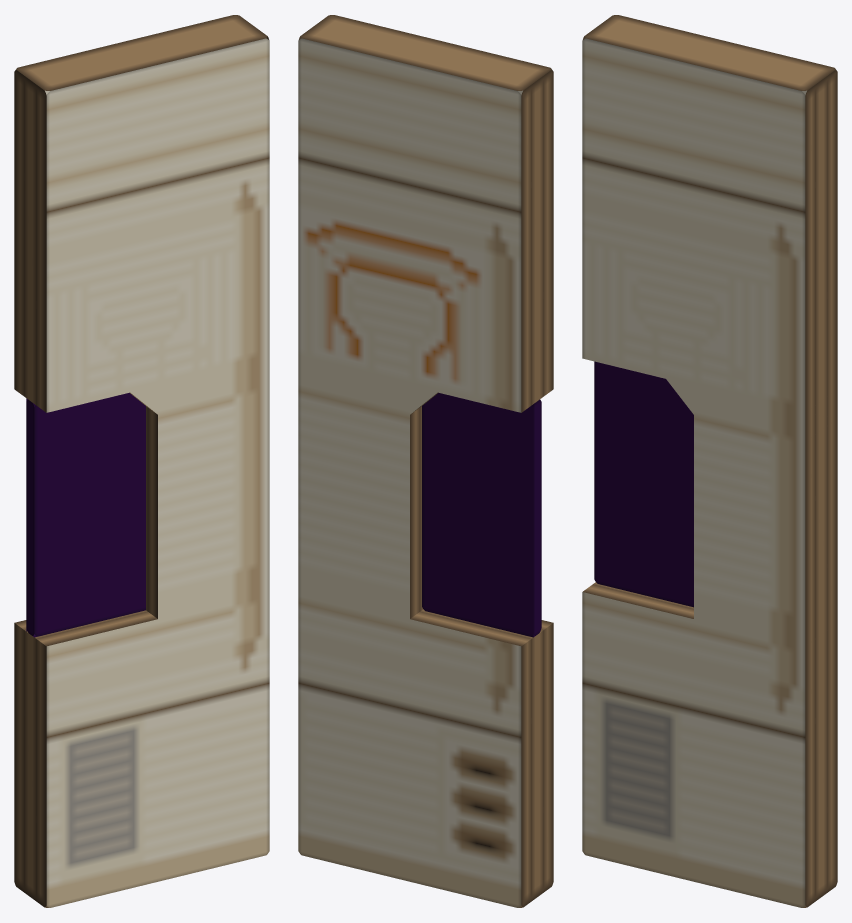
The model's file is tile_wall_window_l.obj.
The picture shows the model from 3 angles, left to right: view 1: azimuth 30°, elevation 25°; view 2: azimuth 150°, elevation 25°; view 3: azimuth 330°, elevation 25°; orthographic projection.
Visible parts, largest first — view 1: wall, window; view 2: wall, window; view 3: wall, window.
Boxes of the visible parts, left/top/right/bottom form: wall: left=14, top=15, right=269, bottom=907; window: left=26, top=392, right=145, bottom=637; wall: left=298, top=15, right=553, bottom=907; window: left=422, top=392, right=541, bottom=637; wall: left=582, top=15, right=837, bottom=907; window: left=594, top=361, right=693, bottom=607.
Bounding box in the file's own units: 1 × 3.5 × 0.25.
Materials: 1 (1 with a texture image).
